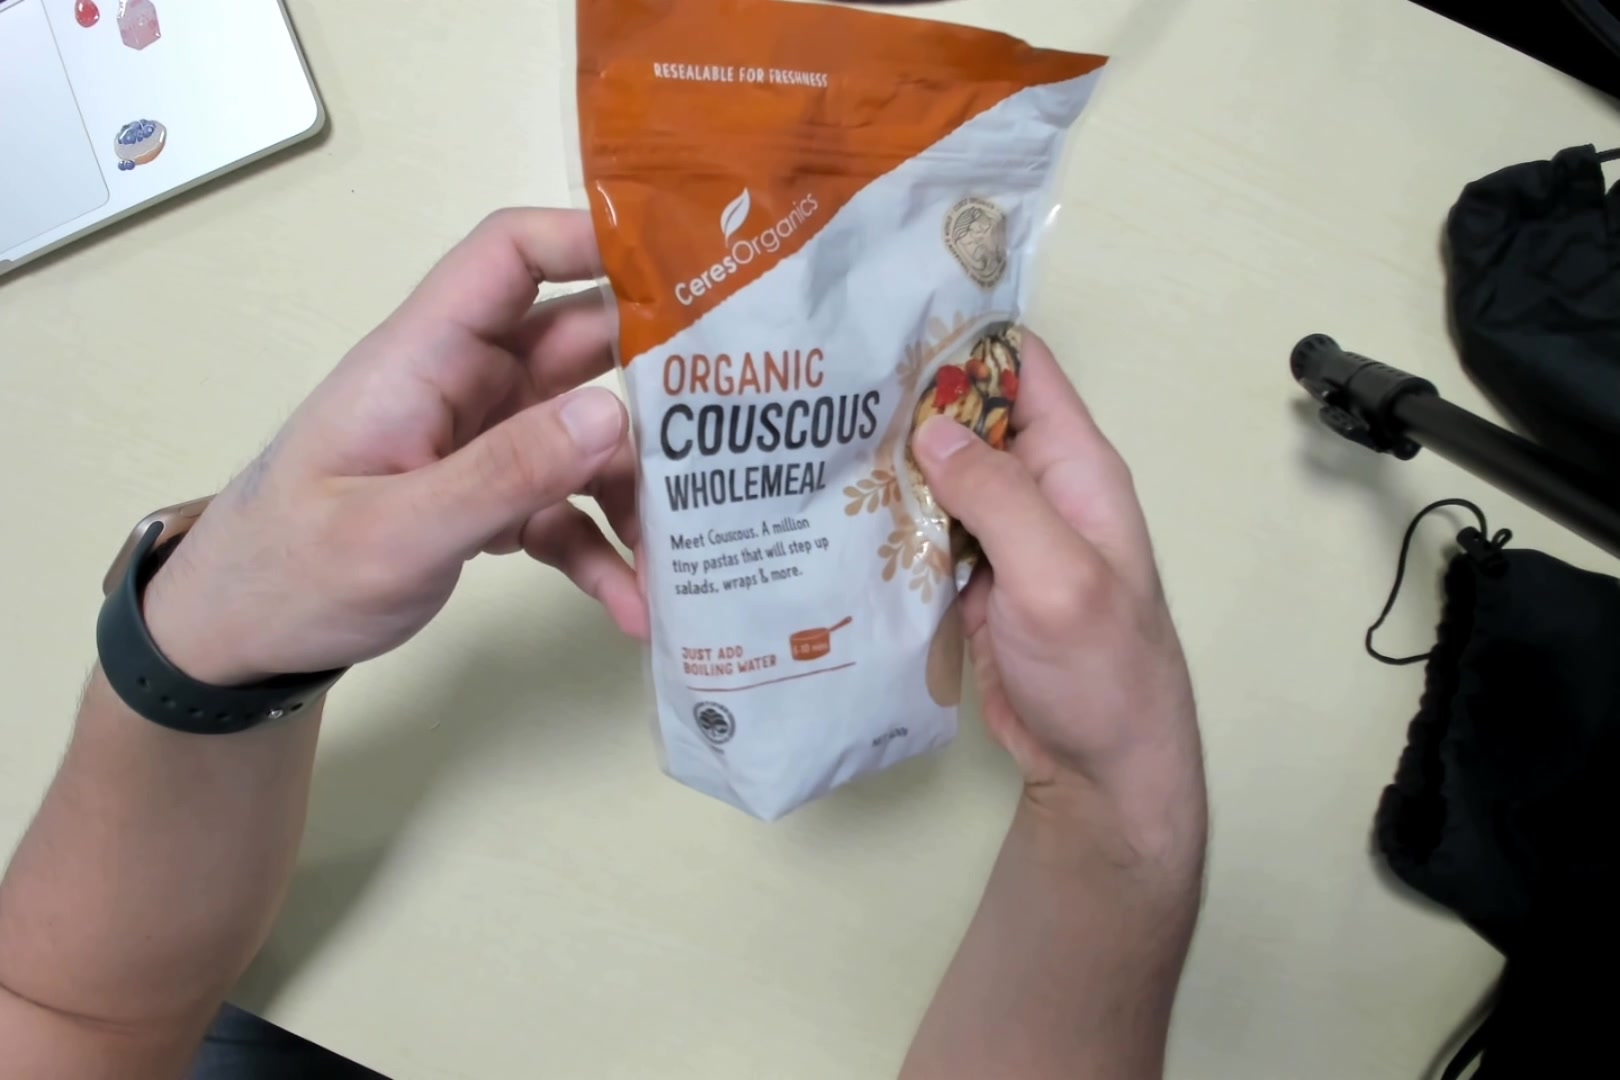Rice(BrownOthers)_300-399g_NonHalal_NonHealthy: (587, 1, 1039, 820)
